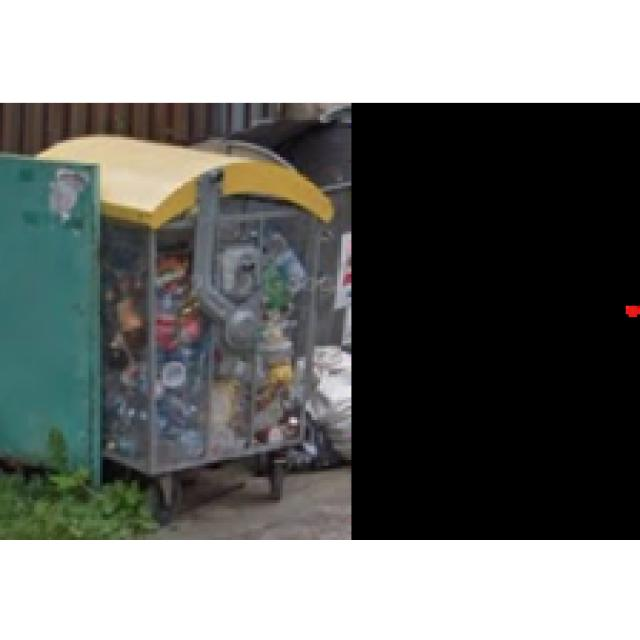plastic trash bin: (39, 133, 322, 525)
